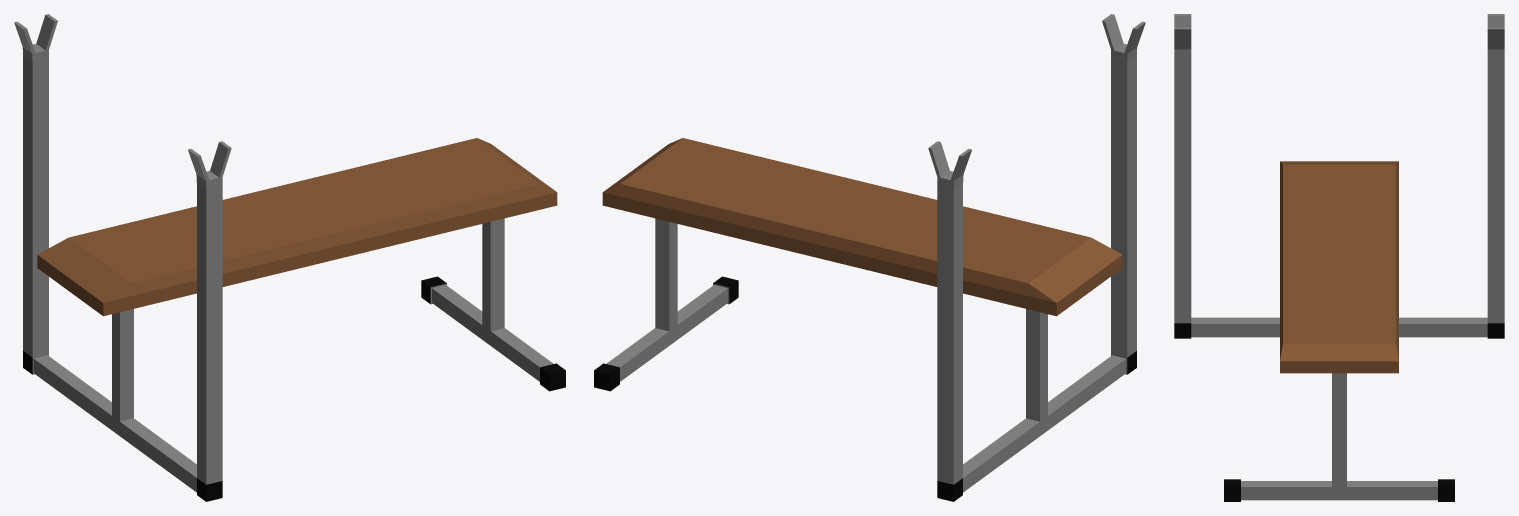
The model's file is BenchPress.003.fbx.
3 views of the same model, side by side, from view 1: azimuth 30°, elevation 25°; view 2: azimuth 150°, elevation 25°; view 3: azimuth 270°, elevation 25° (orthographic). The views are drawn at different scales.
Parts seen in each view (by area): view 1: BenchPress.003; view 2: BenchPress.003; view 3: BenchPress.003.
Boxes of the visible parts, box(x1,y1,x2,y2) form: BenchPress.003: box(14, 14, 565, 501); BenchPress.003: box(594, 14, 1145, 501); BenchPress.003: box(1174, 14, 1504, 501).
Size of the model in its own units: 109 by 79.98 by 76.37.
